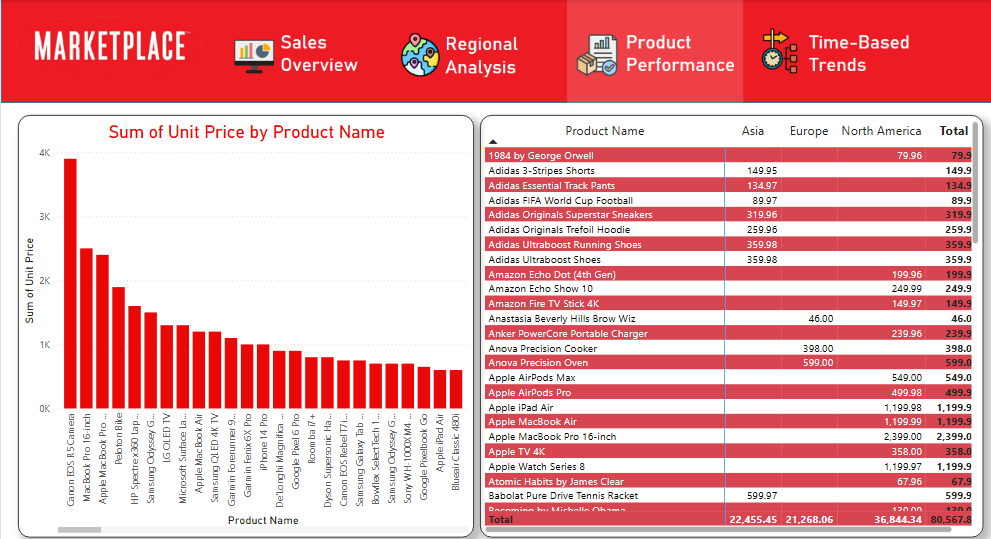

This screenshot's page, from the dashboard's own definition file:
{"tool":"powerbi","page":{"name":"Product Performance","canvas":[1280,720],"ordinal":2},"visuals":[{"type":"shape","box":[727.4,0,227.5,133.7],"z":0},{"type":"actionButton","box":[280.2,0,197.9,133.7],"z":1000},{"type":"actionButton","box":[496.1,0,199.2,133.7],"z":2000},{"type":"actionButton","box":[727.4,0,227.5,133.7],"z":3000},{"type":"actionButton","box":[963.9,0,227.5,133.7],"z":4000},{"type":"columnChart","fields":{"Category":["Online Sales Data.Product Name"],"Y":["Sum(Online Sales Data.Unit Price)"]},"box":[21.4,147.4,586.1,543.4],"z":5000},{"type":"pivotTable","fields":{"Rows":["Online Sales Data.Product Name"],"Values":["Sum(Online Sales Data.Total Revenue)"],"Columns":["Online Sales Data.Region"]},"box":[615.4,147.4,646.9,543.4],"z":6000}]}

Visuals, with their boxes on the page's 1280x720 design canvas (x1, y1, x2, y2). These are canvas units, not pixel positions in the 991x539 screenshot, which may show the page scaled, cropped or inside an application window:
shape: 727 0 955 134
actionButton: 280 0 478 134
actionButton: 496 0 695 134
actionButton: 727 0 955 134
actionButton: 964 0 1191 134
columnChart - Online Sales Data.Product Name x Sum(Online Sales Data.Unit Price): 21 147 608 691
pivotTable - Online Sales Data.Product Name x Sum(Online Sales Data.Total Revenue): 615 147 1262 691
